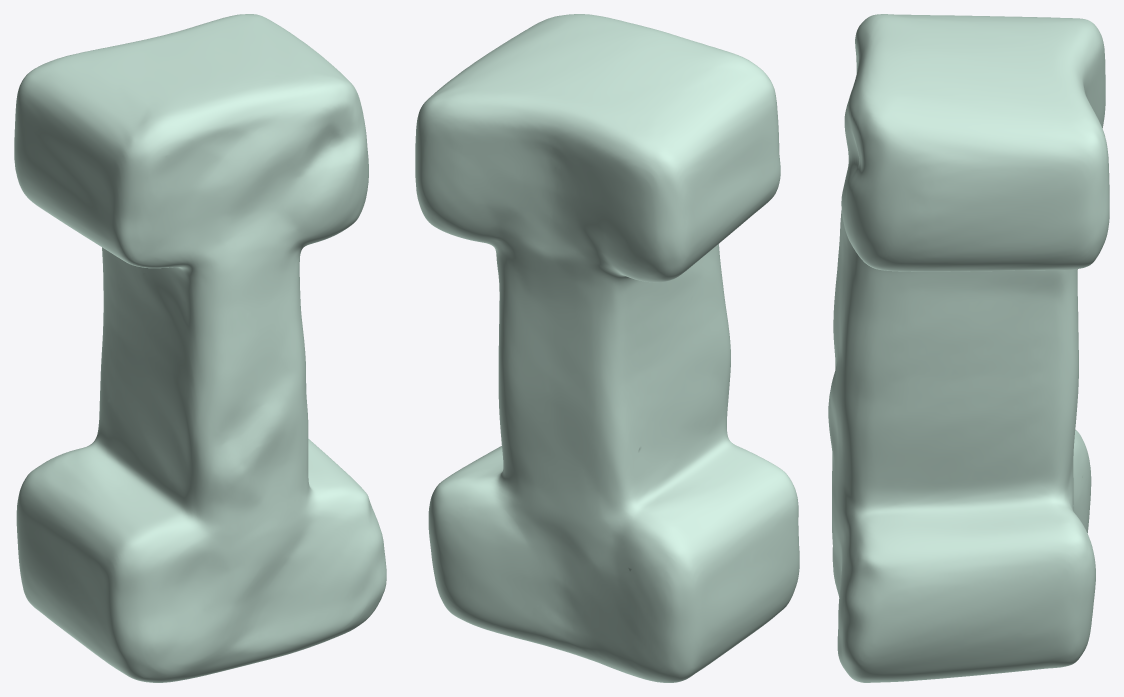
File: Stack 0A - I.glb
3 renders of one model, left to right at view 1: azimuth 30°, elevation 25°; view 2: azimuth 150°, elevation 25°; view 3: azimuth 270°, elevation 25°, orthographic. The views are drawn at different scales.
Visible parts, largest first — view 1: Stack 0A - I · mesh; view 2: Stack 0A - I · mesh; view 3: Stack 0A - I · mesh.
Part boxes in pixels (x1,y1,x2,y2): Stack 0A - I · mesh: (14,14,386,682); Stack 0A - I · mesh: (415,14,799,682); Stack 0A - I · mesh: (828,14,1109,682).
Size of the model in its own units: 0.5132 by 1 by 0.4318.
